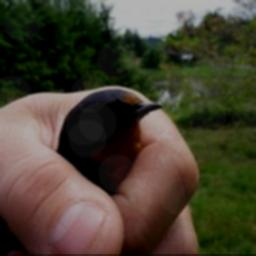Swallow: (54, 85, 165, 196)
